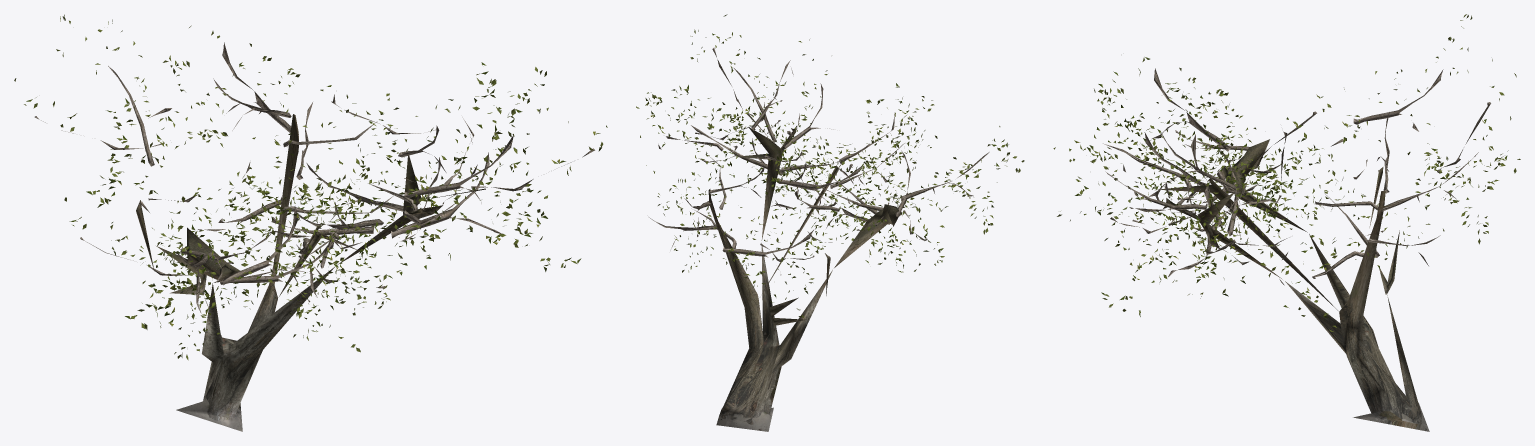
File: tree-lod.glb
The picture shows the model from 3 angles, left to right: view 1: azimuth 30°, elevation 25°; view 2: azimuth 150°, elevation 25°; view 3: azimuth 270°, elevation 25°; orthographic projection. The views are drawn at different scales.
Parts seen in each view (by area): view 1: island_tree_02_LOD0; view 2: island_tree_02_LOD0; view 3: island_tree_02_LOD0.
Boxes of the visible parts, bbox=[...] form: island_tree_02_LOD0: bbox=[14, 14, 607, 431]; island_tree_02_LOD0: bbox=[636, 14, 1024, 431]; island_tree_02_LOD0: bbox=[1053, 14, 1520, 431].
Size of the model in its own units: 3.68 by 3.33 by 3.98.
3 materials, 3 textured.
